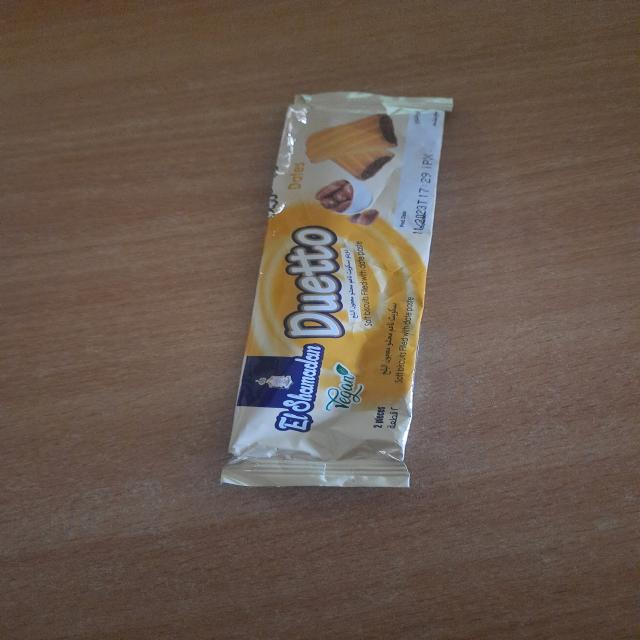trash: (150, 54, 507, 539)
